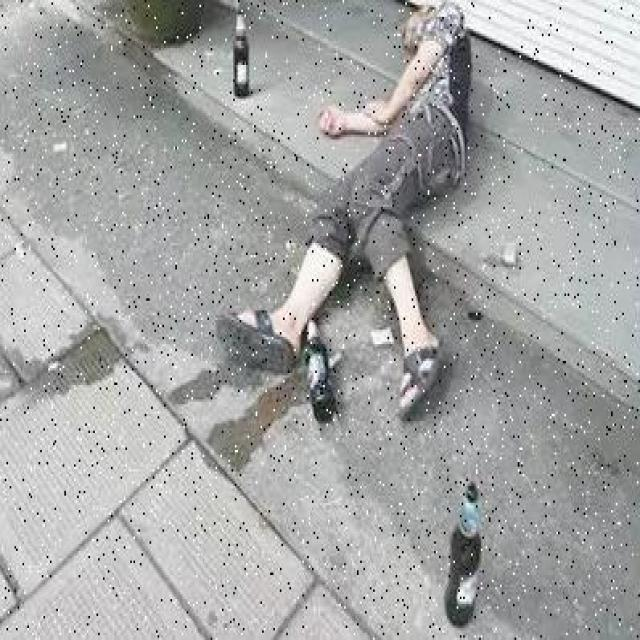fall: (222, 0, 473, 368)
